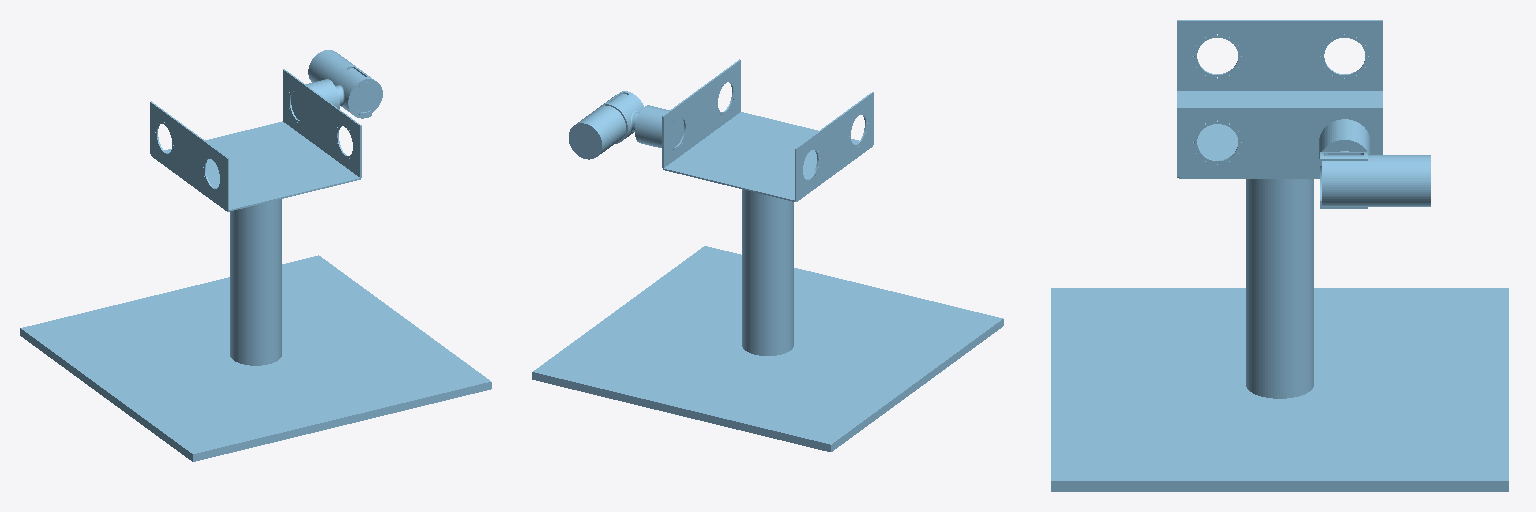
The robot description file, URDF, robot "quadruped_robot":
<robot name="quadruped_robot">
<link name="cpart">
<visual>
<origin xyz="0.15578206315040571406 0.40636716294288743878 1.0206857788860796976" rpy="-1.57079632679489678 5.4234187233944561622e-31 -3.141592653589793116" />
<geometry>
<mesh filename="package://quadruped_description/quadruped/cpart.stl"/>
</geometry>
<material name="cpart_material">
<color rgba="0.61568627450980395466 0.81176470588235294379 0.92941176470588238168 1.0"/>
</material>
</visual>
<collision>
<origin xyz="0.15578206315040571406 0.40636716294288743878 1.0206857788860796976" rpy="-1.57079632679489678 5.4234187233944561622e-31 -3.141592653589793116" />
<geometry>
<mesh filename="package://quadruped_description/quadruped/cpart.stl"/>
</geometry>
</collision>
<visual>
<origin xyz="0.15578206315040574181 0.54416716294288536293 1.0206857788860796976" rpy="1.57079632679489678 -2.917141889098392817e-31 1.8503717077085997396e-16" />
<geometry>
<mesh filename="package://quadruped_description/quadruped/part_1.stl"/>
</geometry>
<material name="part_1_material">
<color rgba="0.61568627450980395466 0.81176470588235294379 0.92941176470588238168 1.0"/>
</material>
</visual>
<collision>
<origin xyz="0.15578206315040574181 0.54416716294288536293 1.0206857788860796976" rpy="1.57079632679489678 -2.917141889098392817e-31 1.8503717077085997396e-16" />
<geometry>
<mesh filename="package://quadruped_description/quadruped/part_1.stl"/>
</geometry>
</collision>
<visual>
<origin xyz="0.15578206315040571406 0.41276716294288540166 1.0206857788860796976" rpy="1.57079632679489678 -2.4651903288151854504e-31 1.8503717077085994931e-16" />
<geometry>
<mesh filename="package://quadruped_description/quadruped/part_1.stl"/>
</geometry>
<material name="part_1_material">
<color rgba="0.61568627450980395466 0.81176470588235294379 0.92941176470588238168 1.0"/>
</material>
</visual>
<collision>
<origin xyz="0.15578206315040571406 0.41276716294288540166 1.0206857788860796976" rpy="1.57079632679489678 -2.4651903288151854504e-31 1.8503717077085994931e-16" />
<geometry>
<mesh filename="package://quadruped_description/quadruped/part_1.stl"/>
</geometry>
</collision>
<visual>
<origin xyz="0.15578206315040576957 0.41276716294288540166 1.0206857788860796976" rpy="-1.570796326794896558 -2.4651903288151854504e-31 1.8503717077085994931e-16" />
<geometry>
<mesh filename="package://quadruped_description/quadruped/part_1.stl"/>
</geometry>
<material name="part_1_material">
<color rgba="0.61568627450980395466 0.81176470588235294379 0.92941176470588238168 1.0"/>
</material>
</visual>
<collision>
<origin xyz="0.15578206315040576957 0.41276716294288540166 1.0206857788860796976" rpy="-1.570796326794896558 -2.4651903288151854504e-31 1.8503717077085994931e-16" />
<geometry>
<mesh filename="package://quadruped_description/quadruped/part_1.stl"/>
</geometry>
</collision>
<inertial>
<origin xyz="0.10227511080012095801 0.35166668692429309262 1.0206857403963638387" rpy="0 0 0"/>
<mass value="0.23370815849733583836" />
<inertia ixx="0.00042413043546260802315" ixy="2.7030174865222627125e-05"  ixz="-4.4555619765629169526e-11" iyy="0.00039882605981902155513" iyz="1.7673533477642717716e-09" izz="0.00032635443929761195859" />
</inertial>
</link>

<link name="part_1">
<visual>
<origin xyz="0 0 0" rpy="-3.141592653589793116 -9.9441101960317143754e-47 5.4190839050061285165e-44" />
<geometry>
<mesh filename="package://quadruped_description/quadruped/part_1.stl"/>
</geometry>
<material name="part_1_material">
<color rgba="0.61568627450980395466 0.81176470588235294379 0.92941176470588238168 1.0"/>
</material>
</visual>
<collision>
<origin xyz="0 0 0" rpy="-3.141592653589793116 -9.9441101960317143754e-47 5.4190839050061285165e-44" />
<geometry>
<mesh filename="package://quadruped_description/quadruped/part_1.stl"/>
</geometry>
</collision>
<visual>
<origin xyz="-0.011237273782491508101 -0.13877751040458372045 -0.55640000000000000568" rpy="5.3503760469849986713e-31 -1.8503717077086330197e-16 -1.570796326794896558" />
<geometry>
<mesh filename="package://quadruped_description/quadruped/actuator_holder.stl"/>
</geometry>
<material name="actuator_holder_material">
<color rgba="0.61568627450980395466 0.81176470588235294379 0.92941176470588238168 1.0"/>
</material>
</visual>
<collision>
<origin xyz="-0.011237273782491508101 -0.13877751040458372045 -0.55640000000000000568" rpy="5.3503760469849986713e-31 -1.8503717077086330197e-16 -1.570796326794896558" />
<geometry>
<mesh filename="package://quadruped_description/quadruped/actuator_holder.stl"/>
</geometry>
</collision>
<visual>
<origin xyz="0.086941451653722578996 -0.1415719609260527867 -0.33139999999999997238" rpy="-3.141592653589793116 -1.570796326794896336 0" />
<geometry>
<mesh filename="package://quadruped_description/quadruped/supportforurdf.stl"/>
</geometry>
<material name="supportforurdf_material">
<color rgba="0.61568627450980395466 0.81176470588235294379 0.92941176470588238168 1.0"/>
</material>
</visual>
<collision>
<origin xyz="0.086941451653722578996 -0.1415719609260527867 -0.33139999999999997238" rpy="-3.141592653589793116 -1.570796326794896336 0" />
<geometry>
<mesh filename="package://quadruped_description/quadruped/supportforurdf.stl"/>
</geometry>
</collision>
<visual>
<origin xyz="0.0819414516537227966 -0.14157196092605284221 -0.33139999999999997238" rpy="-3.141592653589793116 -1.570796326794896336 0" />
<geometry>
<mesh filename="package://quadruped_description/quadruped/torso_base.stl"/>
</geometry>
<material name="torso_base_material">
<color rgba="0.61568627450980395466 0.81176470588235294379 0.92941176470588238168 1.0"/>
</material>
</visual>
<collision>
<origin xyz="0.0819414516537227966 -0.14157196092605284221 -0.33139999999999997238" rpy="-3.141592653589793116 -1.570796326794896336 0" />
<geometry>
<mesh filename="package://quadruped_description/quadruped/torso_base.stl"/>
</geometry>
</collision>
<visual>
<origin xyz="-0.011237273782491508101 -0.13877751040458380372 -0.1114000000000000129" rpy="5.2362468650953840785e-31 1.3969411863289051416e-31 -1.570796326794896558" />
<geometry>
<mesh filename="package://quadruped_description/quadruped/actuator_holder.stl"/>
</geometry>
<material name="actuator_holder_material">
<color rgba="0.61568627450980395466 0.81176470588235294379 0.92941176470588238168 1.0"/>
</material>
</visual>
<collision>
<origin xyz="-0.011237273782491508101 -0.13877751040458380372 -0.1114000000000000129" rpy="5.2362468650953840785e-31 1.3969411863289051416e-31 -1.570796326794896558" />
<geometry>
<mesh filename="package://quadruped_description/quadruped/actuator_holder.stl"/>
</geometry>
</collision>
<inertial>
<origin xyz="0.58207076481969199921 -0.14158163712701227199 -0.33139999999999991687" rpy="0 0 0"/>
<mass value="100.53390082123088689" />
<inertia ixx="11.532760837597697545" ixy="-0.00056623042349448473795"  ixz="-6.3837823915946501074e-16" iyy="9.9274786494502400558" iyz="7.6733053504945969436e-16" izz="9.8718660507274815785" />
</inertial>
</link>

<joint name="abdnt" type="revolute">
<origin xyz="0.065782063150405731267 0.35636716294288639517 1.0206857788860796976" rpy="-1.8503717077085521615e-16 1.570796326794896558 0" />
<parent link="cpart" />
<child link="part_1" />
<axis xyz="0 0 1"/>
<limit effort="1" velocity="20" />
<joint_properties friction="0.0"/>
</joint>


</robot>

--- Facts derived from the render (not from the file) ---
Views: 3 orthographic renders of the robot side by side, from view 1: azimuth 30°, elevation 25°; view 2: azimuth 150°, elevation 25°; view 3: azimuth 270°, elevation 25°.
Model quadruped_robot with 2 links and 1 joints (1 revolute), rooted at cpart, posed every joint at zero.
Visible links, largest first — view 1: part_1, cpart; view 2: part_1, cpart; view 3: part_1, cpart.
Link boxes in pixels (x1,y1,x2,y2): part_1: [20, 69, 491, 461]; cpart: [308, 50, 382, 118]; part_1: [532, 59, 1003, 451]; cpart: [569, 91, 643, 159]; part_1: [1051, 20, 1508, 491]; cpart: [1320, 151, 1430, 208].
Bounding box of the posed robot: 1 × 1 × 0.7964 m (x, y, z).
9 mesh visuals loaded from 5 distinct referenced files (5 binary STL).